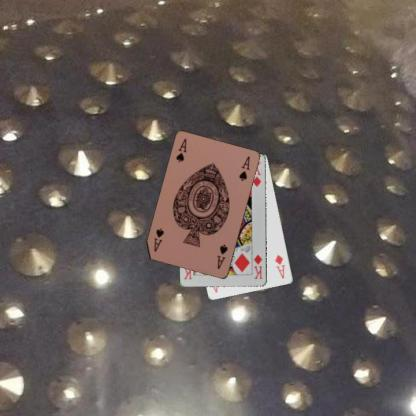Ad: (272, 252, 286, 280)
As: (215, 242, 229, 270), (174, 136, 188, 163)
Kd: (252, 252, 263, 280)
